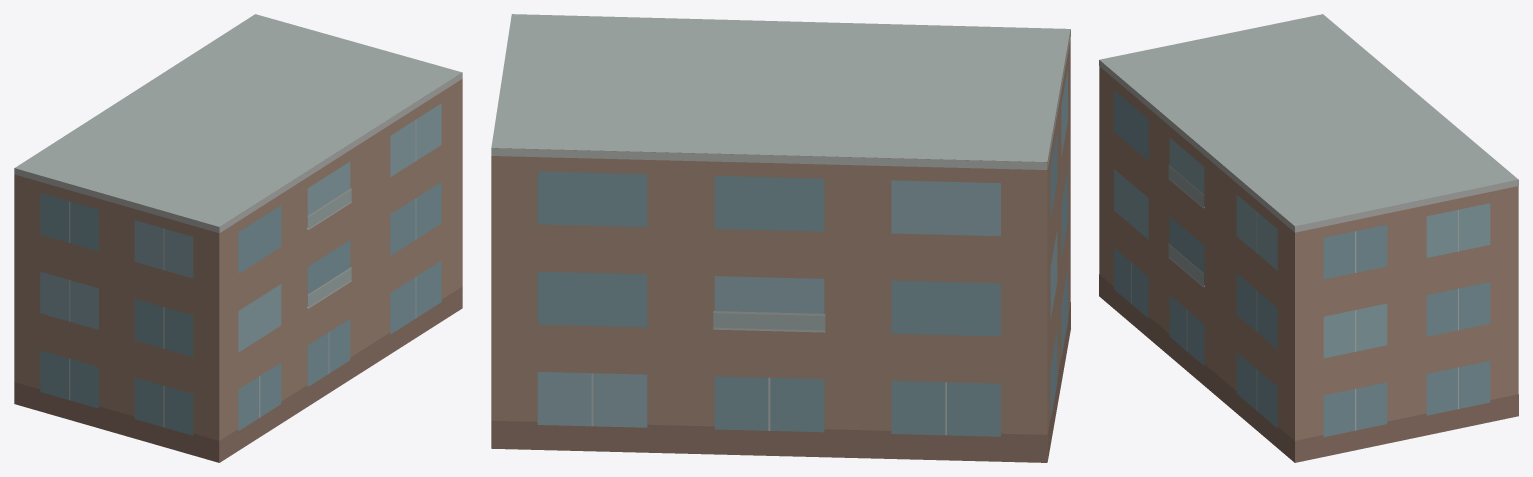
Rendered from survey-upis-32705589.glb.
3 renders of one model, left to right at view 1: azimuth 30°, elevation 25°; view 2: azimuth 150°, elevation 25°; view 3: azimuth 270°, elevation 25°, orthographic. The views are drawn at different scales.
Parts seen in each view (by area): view 1: survey-upis-32705589.tmp; view 2: survey-upis-32705589.tmp; view 3: survey-upis-32705589.tmp.
Boxes of the visible parts, <box> form: survey-upis-32705589.tmp: <box>14,14,462,462</box>; survey-upis-32705589.tmp: <box>491,14,1070,462</box>; survey-upis-32705589.tmp: <box>1099,14,1518,462</box>.
Size of the model in its own units: 17.63 by 9.15 by 14.72.
